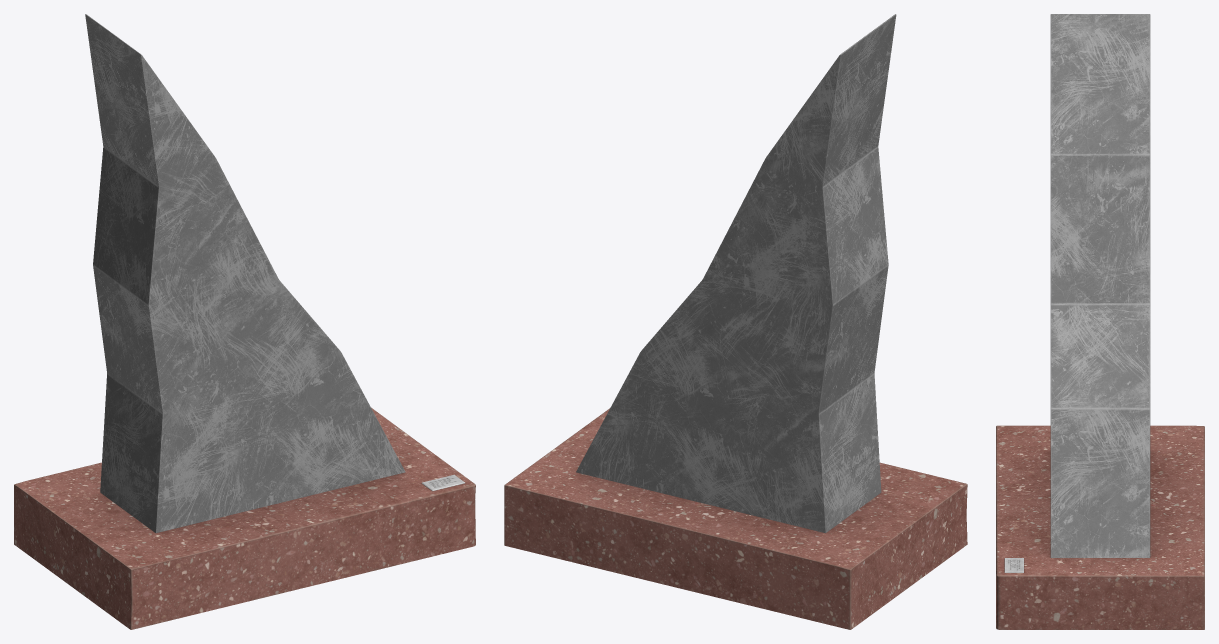
File: KranaeAekyad.glb
3 views of the same model, side by side, from view 1: azimuth 30°, elevation 25°; view 2: azimuth 150°, elevation 25°; view 3: azimuth 270°, elevation 25° (orthographic). The views are drawn at different scales.
Visible parts, largest first — view 1: SM_KranaeAekyad; view 2: SM_KranaeAekyad; view 3: SM_KranaeAekyad.
Part boxes in pixels (bbox=[...]): SM_KranaeAekyad: bbox=[14, 14, 475, 629]; SM_KranaeAekyad: bbox=[504, 14, 967, 629]; SM_KranaeAekyad: bbox=[996, 14, 1204, 629].
Bounding box in the file's own units: 1.73 × 2.59 × 1.01.
1 material, 1 textured.
